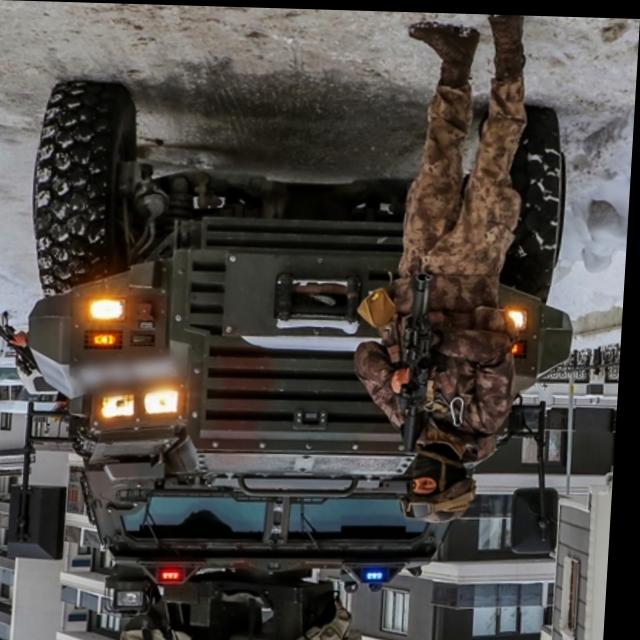poh_personel: (350, 9, 536, 521)
